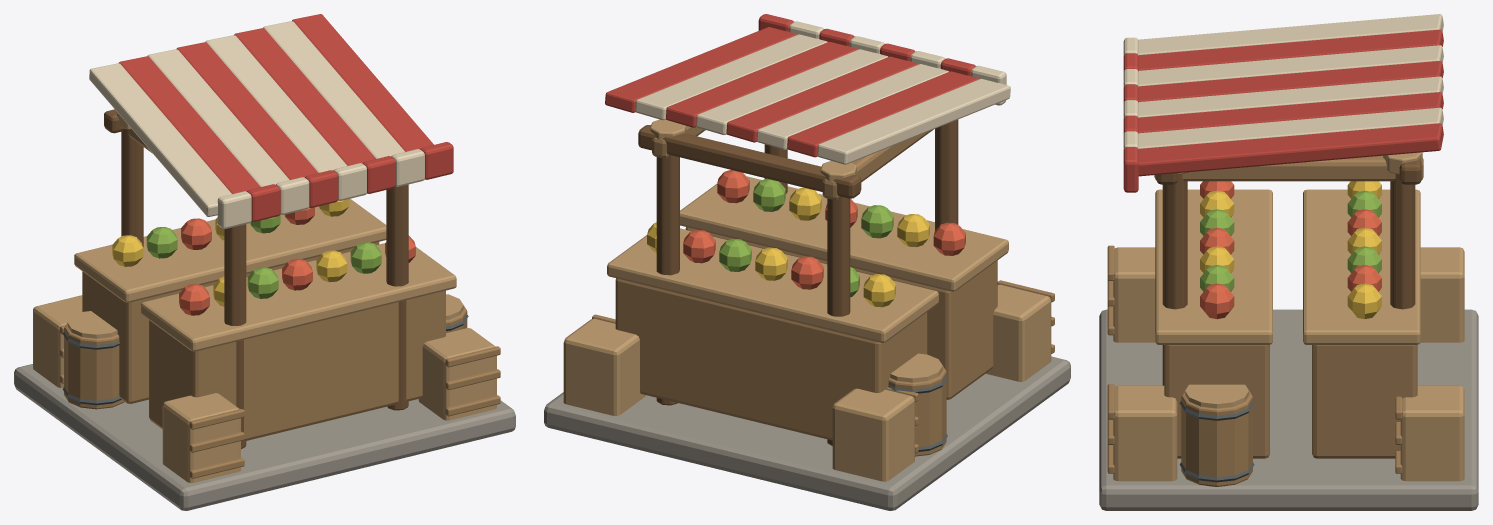
File: town_market.glb
The picture shows the model from 3 angles, left to right: view 1: azimuth 30°, elevation 25°; view 2: azimuth 150°, elevation 25°; view 3: azimuth 270°, elevation 25°; orthographic projection. The views are drawn at different scales.
Parts seen in each view (by area): view 1: TownMarket_Geometry; view 2: TownMarket_Geometry; view 3: TownMarket_Geometry.
Part boxes in pixels (x1,y1,x2,y2): TownMarket_Geometry: (14, 14, 515, 510); TownMarket_Geometry: (544, 14, 1070, 510); TownMarket_Geometry: (1099, 14, 1478, 510).
Size of the model in its own units: 2.15 by 1.95 by 1.9.
